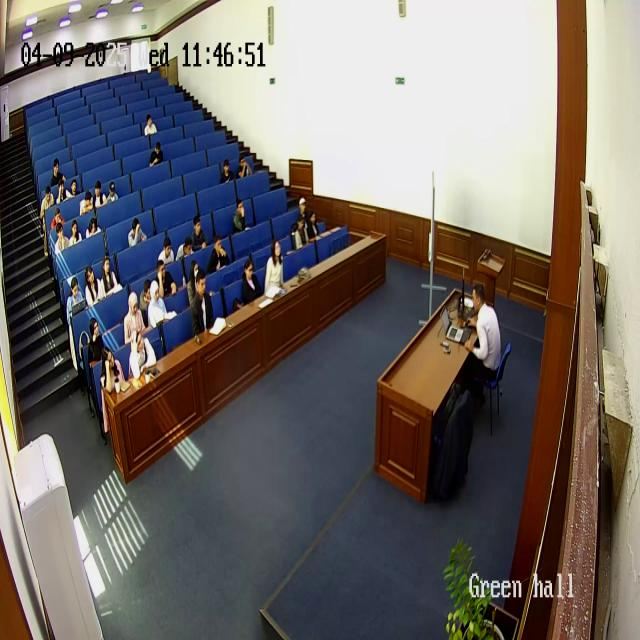person: (457, 283, 501, 398), (99, 346, 124, 426), (190, 269, 214, 337), (129, 325, 157, 379), (146, 281, 172, 328), (123, 292, 146, 344), (240, 256, 263, 305), (264, 238, 284, 294), (86, 318, 108, 367), (98, 255, 120, 299), (66, 276, 85, 326), (152, 262, 176, 300), (84, 264, 104, 308), (185, 259, 203, 305), (40, 184, 54, 239), (210, 235, 230, 273), (290, 215, 308, 252), (190, 216, 208, 252), (128, 217, 147, 248), (54, 221, 70, 257), (232, 200, 248, 234), (306, 209, 322, 242), (157, 236, 175, 264), (176, 236, 194, 263), (297, 198, 311, 230), (50, 159, 64, 190), (92, 183, 108, 210), (85, 216, 102, 240), (56, 178, 70, 207), (80, 188, 94, 216), (69, 220, 83, 247), (221, 158, 235, 184), (144, 113, 158, 138), (148, 143, 163, 166), (236, 154, 250, 178), (106, 180, 119, 202)
